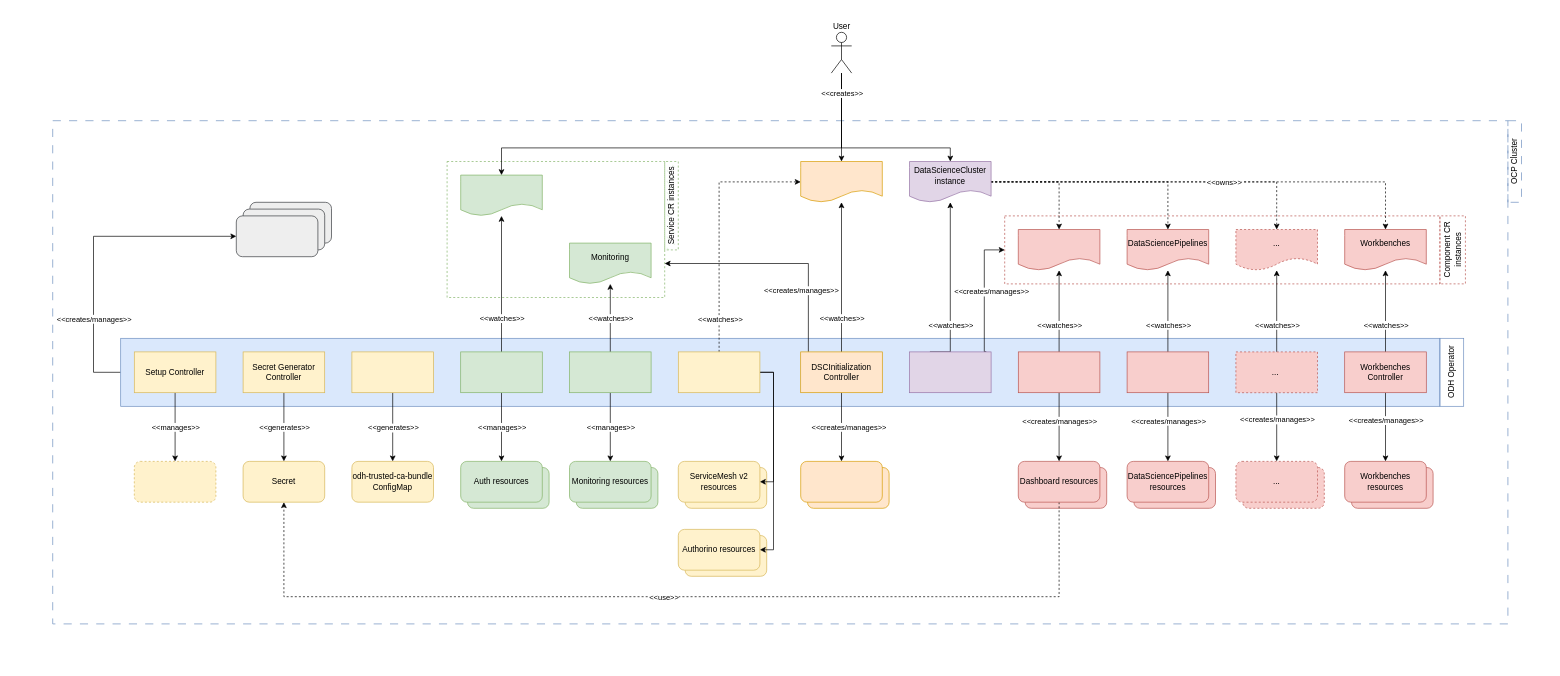
The diagram is 1560 pixels wide and 676 high, and some of its shapes have lost their labels. The centre of each missing label's shape, as x and y in pixels:
Auth: point (501, 195)
Auth Controller: point (501, 372)
Cert ConfigMap Generator Controller: point (392, 372)
Cleanup ConfigMap: point (175, 481)
Dashboard: point (1059, 249)
Dashboard Controller: point (1059, 372)
DataScienceCluster Controller: point (950, 372)
DataSciencePipelines Controller: point (1167, 372)
DSCI resources (e.g. Application Namespace): point (841, 481)
DSCInitialization instance: point (841, 181)
FeatureTracker: point (277, 236)
Monitoring Controller: point (610, 372)
ServiceMesh Controller: point (719, 372)
